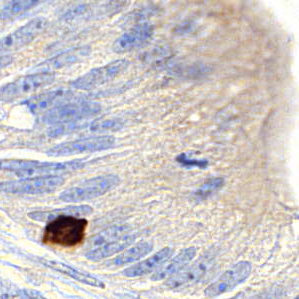Lymphocyte: (43, 215, 88, 248)
